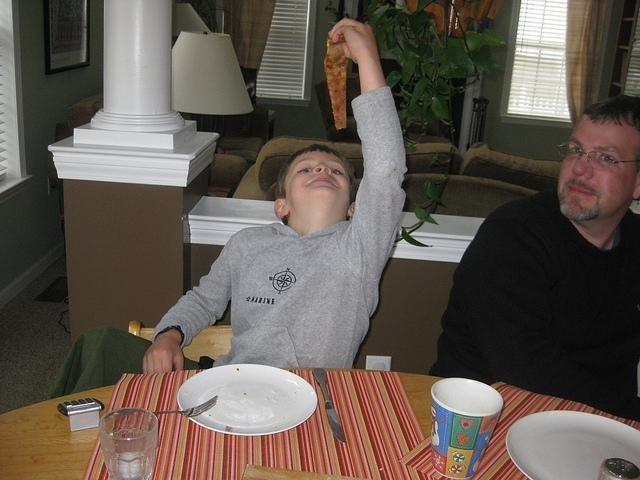cup-disposable: (430, 377, 504, 479)
glass-normal: (97, 407, 160, 479)
